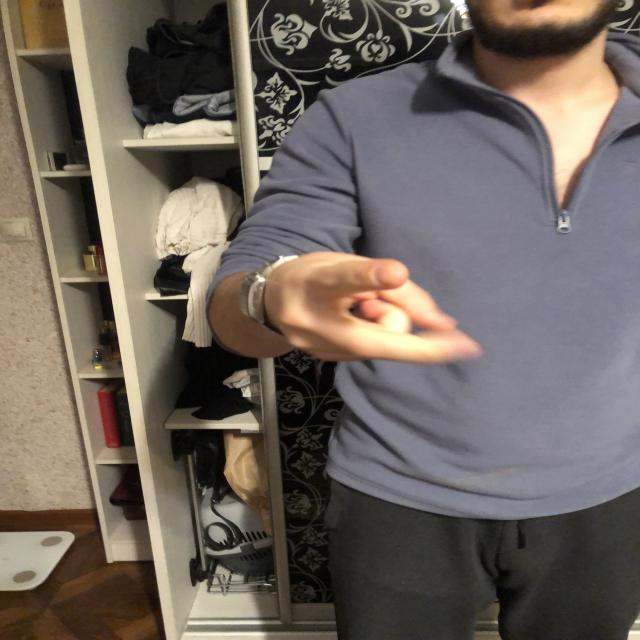scissors: (275, 253, 481, 364)
